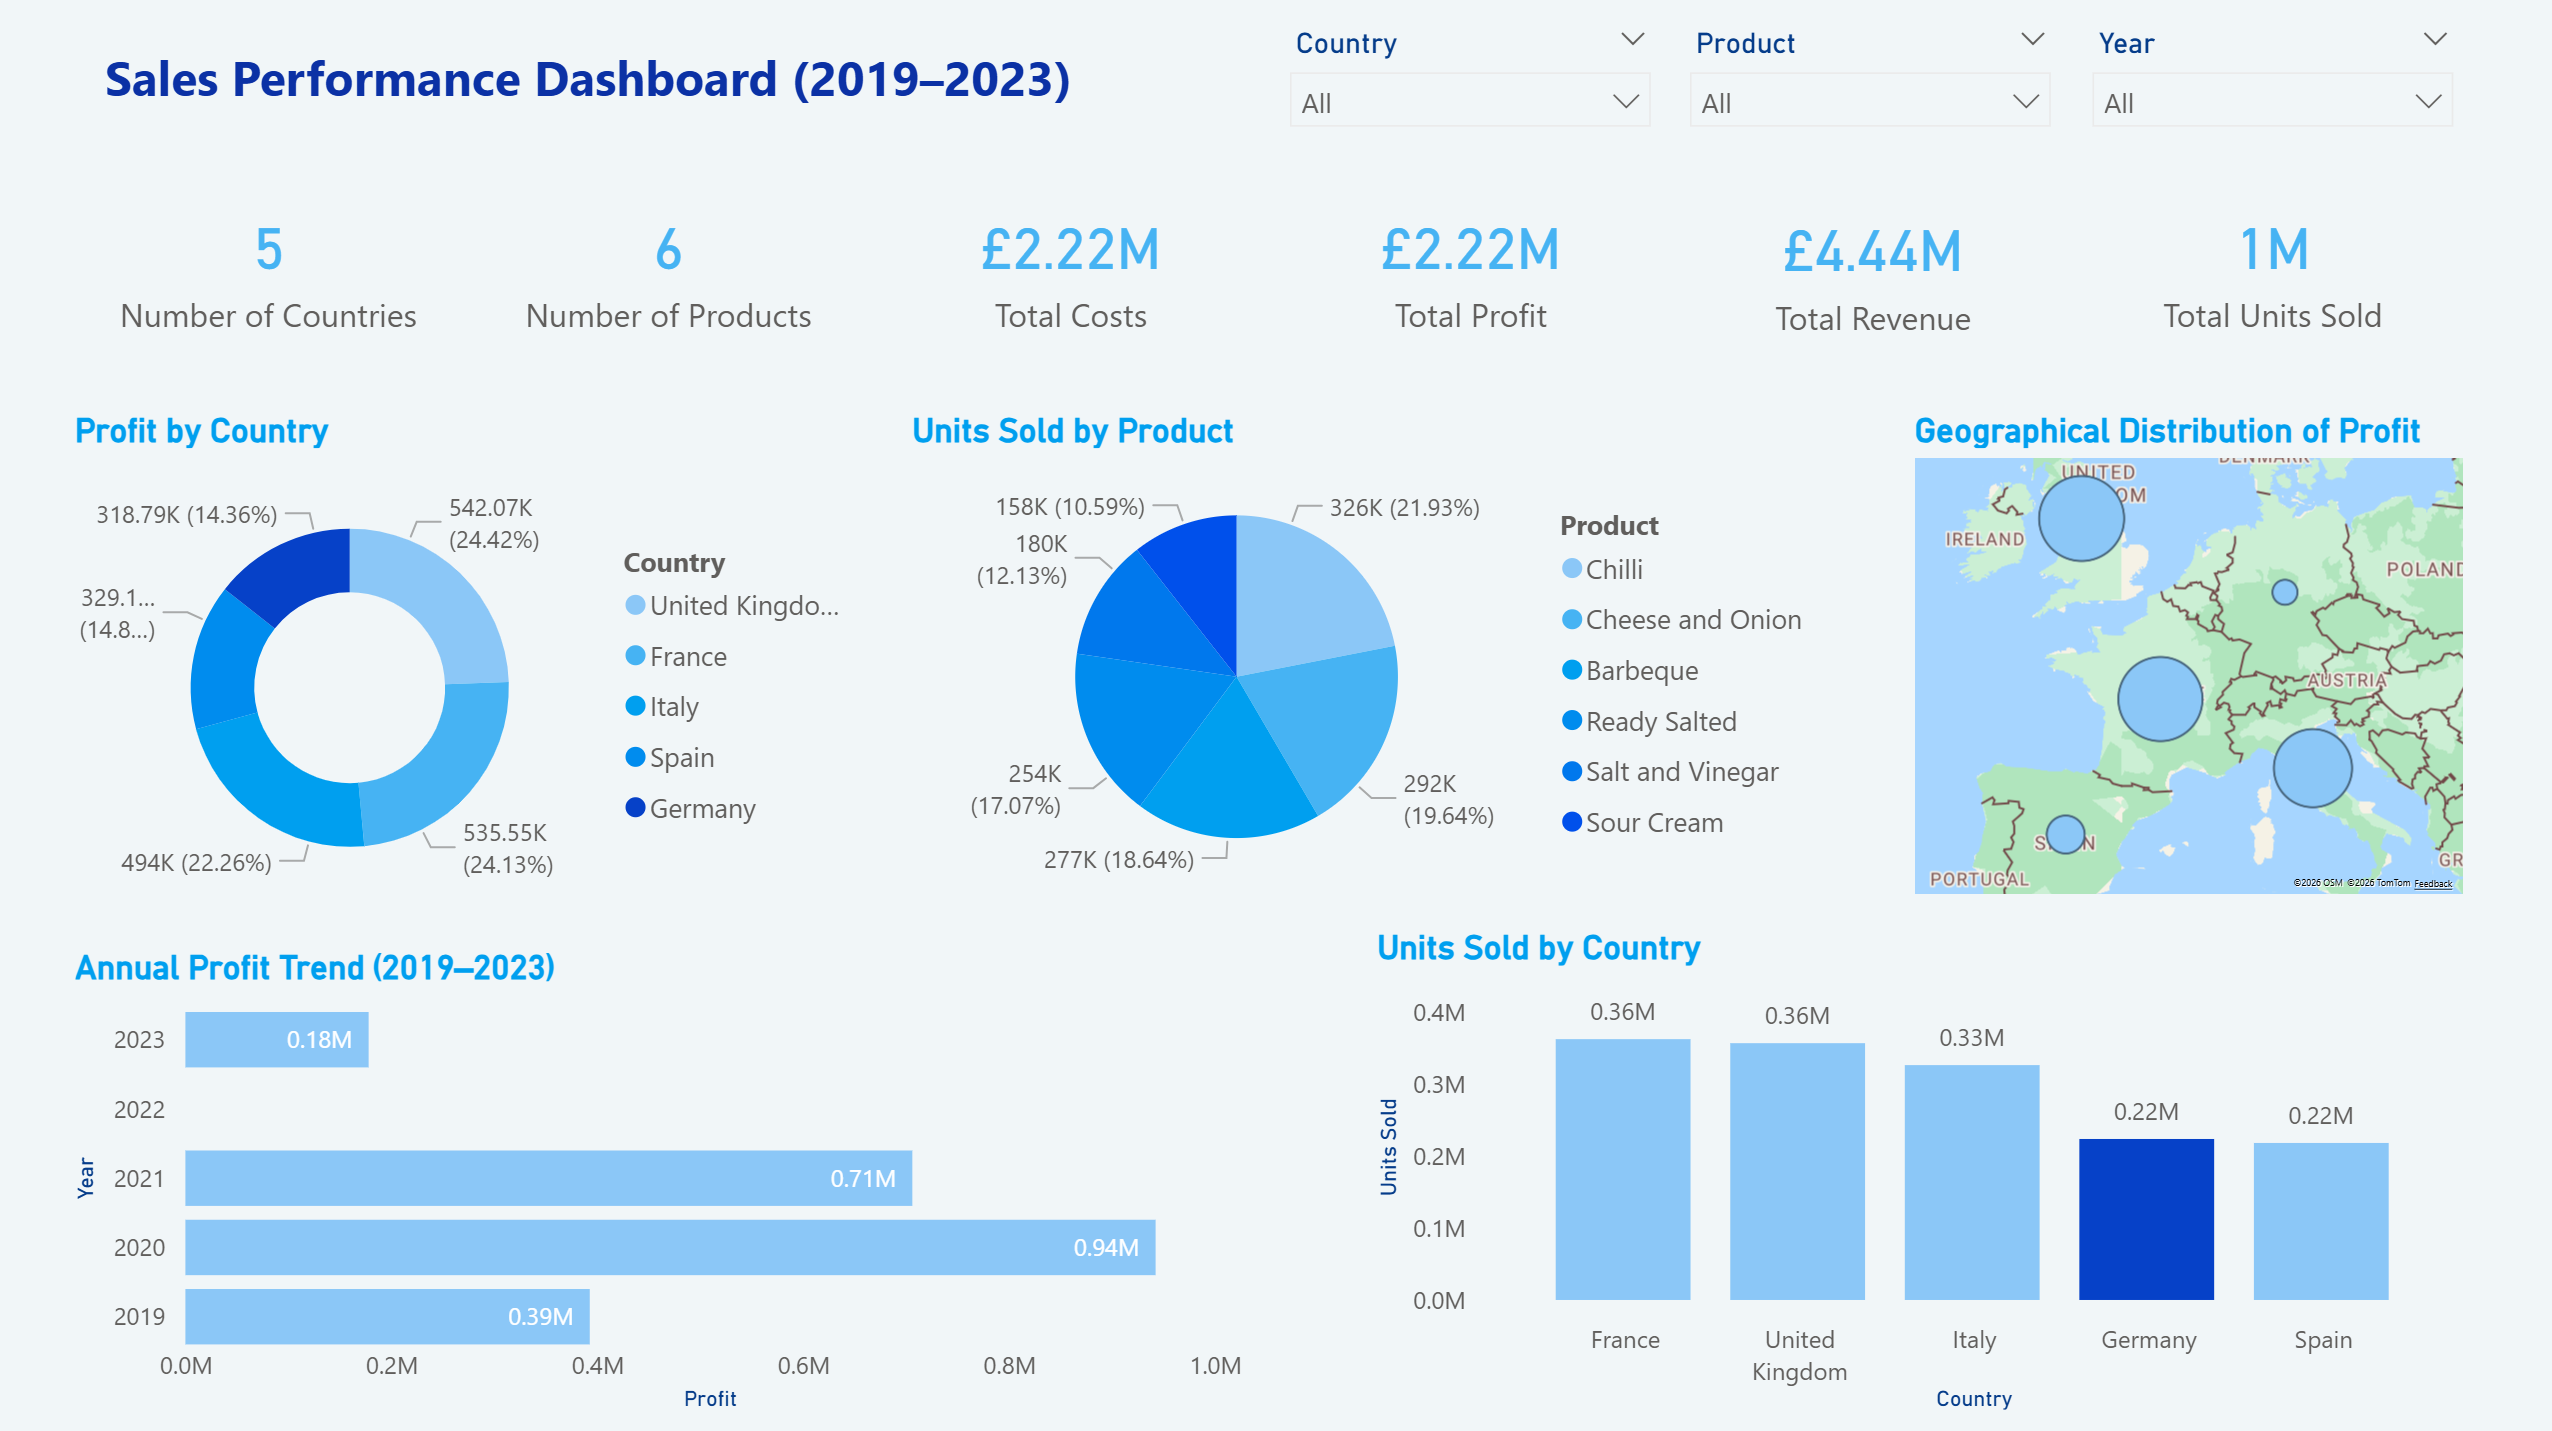

Layout of this report page (visuals, bound fields, positions):
{"tool":"powerbi","page":{"name":"Main","canvas":[1280,720],"ordinal":0},"visuals":[{"type":"textbox","box":[35.5,0,523.4,78.3],"z":0},{"type":"card","fields":{"Values":["Data.Number of Countries"]},"box":[9.7,97.7,209.9,77.2],"z":1000},{"type":"card","fields":{"Values":["Data.Number of Products"]},"box":[219.6,97.7,208.7,77.2],"z":2000},{"type":"card","fields":{"Values":["Data.Total Costs"]},"box":[428.3,97.7,208.7,77.2],"z":3000},{"type":"card","fields":{"Values":["Data.Total Profit"]},"box":[639.4,97.7,211.1,77.2],"z":4000},{"type":"card","fields":{"Values":["Data.Total Revenue"]},"box":[850.5,97.7,205.1,77.2],"z":5000},{"type":"card","fields":{"Values":["Data.Total Units Sold"]},"box":[1055.6,97.7,214.7,77.2],"z":6000},{"type":"donutChart","title":"Profit by Country","fields":{"Category":["Data.Country"],"Y":["Sum(Data.Profit)"]},"box":[18.1,206.3,403,228],"z":7000},{"type":"pieChart","title":"Units Sold by Product","fields":{"Y":["Sum(Data.Units Sold)"],"Category":["Data.Product"]},"box":[454.8,206.3,464.5,228],"z":8000},{"type":"barChart","title":"Annual Profit Trend (2019–2023)","fields":{"Category":["Data.Date.Variation.Date Hierarchy.Year"],"Y":["Sum(Data.Profit)"]},"box":[21.7,476.5,604.4,222],"z":9000},{"type":"columnChart","title":"Units Sold by Country","fields":{"Category":["Data.Country"],"Y":["Sum(Data.Units Sold)"]},"box":[687.7,474.1,552.5,214.7],"z":10000},{"type":"slicer","fields":{"Values":["Data.Country"]},"box":[650.1,10.5,200.5,59.9],"z":11000},{"type":"slicer","fields":{"Values":["Data.Product"]},"box":[850.7,10.5,200.5,59.9],"z":12000},{"type":"slicer","fields":{"Values":["Data.Date.Variation.Date Hierarchy.Year"]},"box":[1051.2,10.5,200.5,59.9],"z":13000},{"type":"azureMap","title":"Geographical Distribution of Profit","fields":{"Size":["Sum(Data.Profit)"],"Category":["Data.Country"]},"box":[955.5,206.3,300.4,228],"z":14000}]}

Visuals, with their boxes in screenshot pixels (x1, y1, x2, y2), scaled from the page's 1280x720 canvas onto the 2552x1431 screenshot:
textbox: Rect(71, 0, 1114, 156)
card - Data.Number of Countries: Rect(19, 194, 438, 348)
card - Data.Number of Products: Rect(438, 194, 854, 348)
card - Data.Total Costs: Rect(854, 194, 1270, 348)
card - Data.Total Profit: Rect(1275, 194, 1696, 348)
card - Data.Total Revenue: Rect(1696, 194, 2105, 348)
card - Data.Total Units Sold: Rect(2105, 194, 2533, 348)
"Profit by Country" donutChart: Rect(36, 410, 840, 863)
"Units Sold by Product" pieChart: Rect(907, 410, 1833, 863)
"Annual Profit Trend (2019–2023)" barChart: Rect(43, 947, 1248, 1388)
"Units Sold by Country" columnChart: Rect(1371, 942, 2473, 1369)
slicer - Data.Country: Rect(1296, 21, 1696, 140)
slicer - Data.Product: Rect(1696, 21, 2096, 140)
slicer - Data.Date.Variation.Date Hierarchy.Year: Rect(2096, 21, 2496, 140)
"Geographical Distribution of Profit" azureMap: Rect(1905, 410, 2504, 863)
